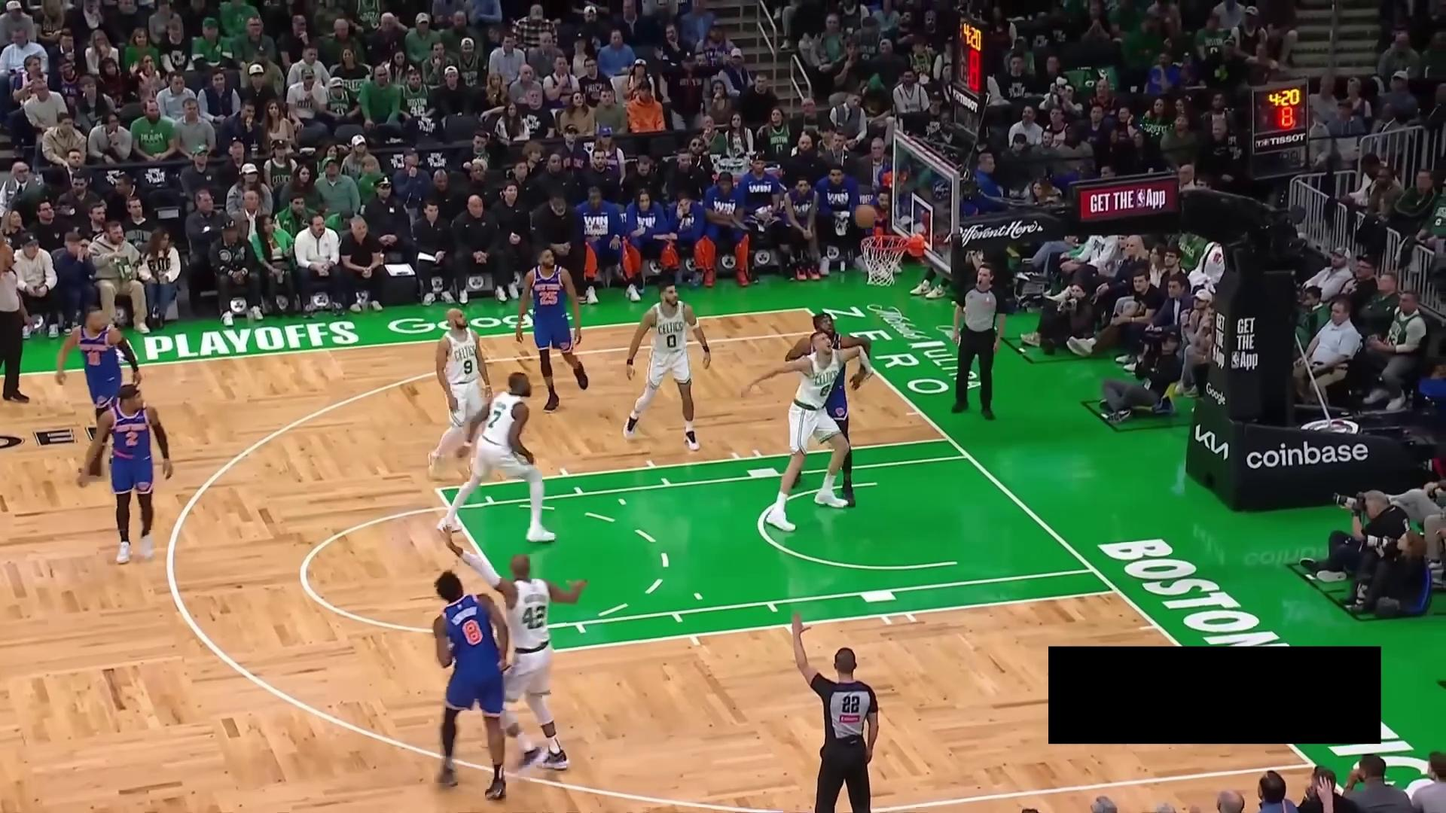ball: (853, 203, 878, 229)
number: (522, 605, 547, 629), (462, 618, 483, 646), (538, 289, 559, 306), (488, 410, 502, 428), (125, 430, 139, 448), (87, 350, 101, 367), (462, 358, 474, 376), (666, 333, 678, 349), (819, 383, 832, 397)
player: (441, 525, 590, 774), (742, 331, 873, 532), (435, 370, 558, 544), (432, 569, 510, 801), (77, 381, 174, 565), (784, 312, 873, 507), (53, 304, 143, 481), (623, 280, 712, 452), (514, 246, 589, 413), (426, 306, 494, 481)
referee: (792, 610, 879, 813), (950, 260, 1008, 422), (0, 228, 33, 405)
rim: (860, 233, 910, 252)
